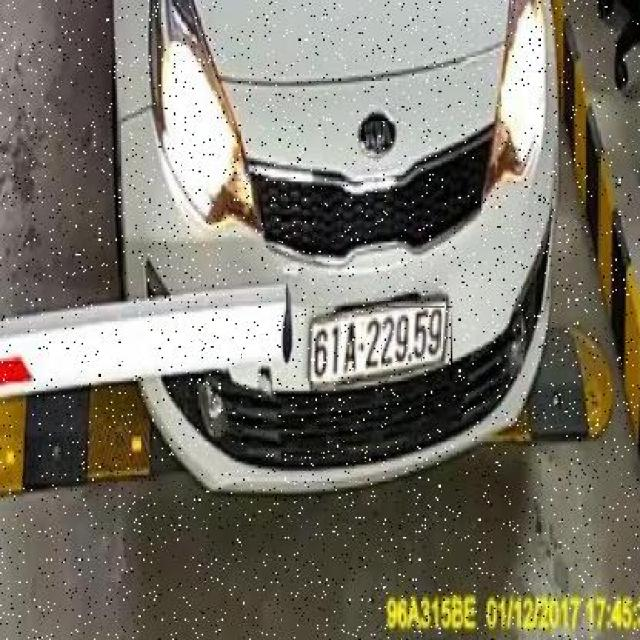number_plate: (302, 306, 452, 380)
